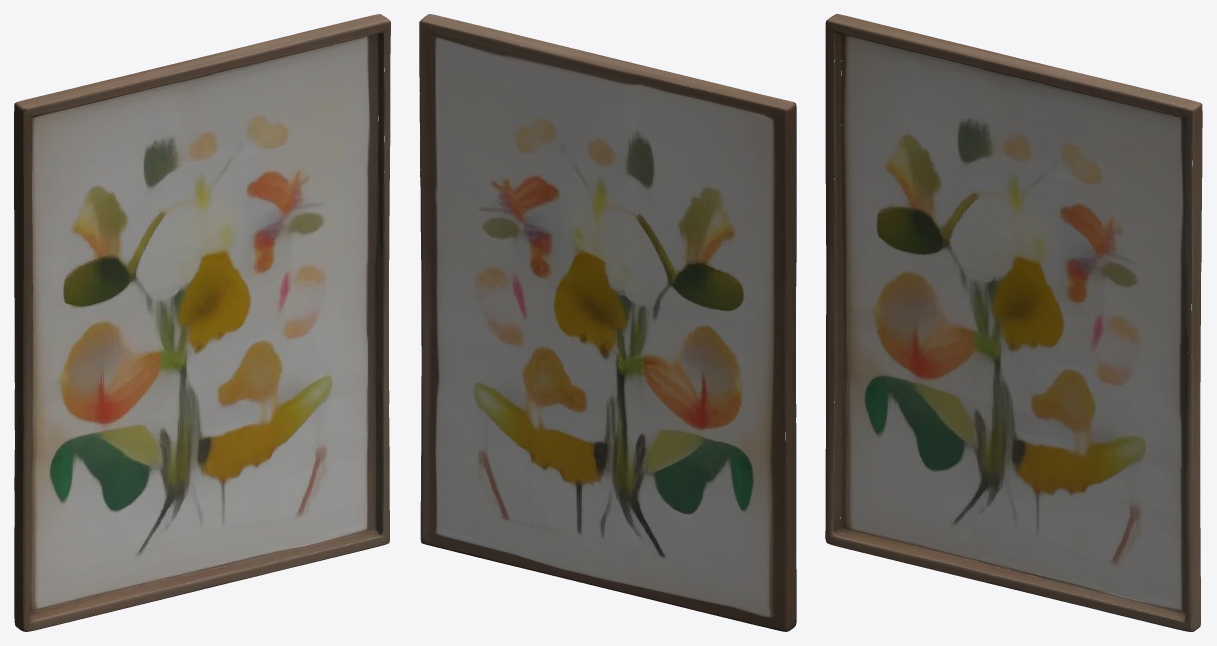
Rendered from framed_painting.glb.
3 views of the same model, side by side, from view 1: azimuth 30°, elevation 25°; view 2: azimuth 150°, elevation 25°; view 3: azimuth 330°, elevation 25° (orthographic).
Parts seen in each view (by area): view 1: geometry_0; view 2: geometry_0; view 3: geometry_0.
Part boxes in pixels (box(x1,y1,x2,y2)): geometry_0: box(14, 14, 390, 631); geometry_0: box(419, 14, 796, 631); geometry_0: box(825, 14, 1202, 631).
Size of the model in its own units: 0.7371 by 1 by 0.0379.
1 material, 1 textured.
